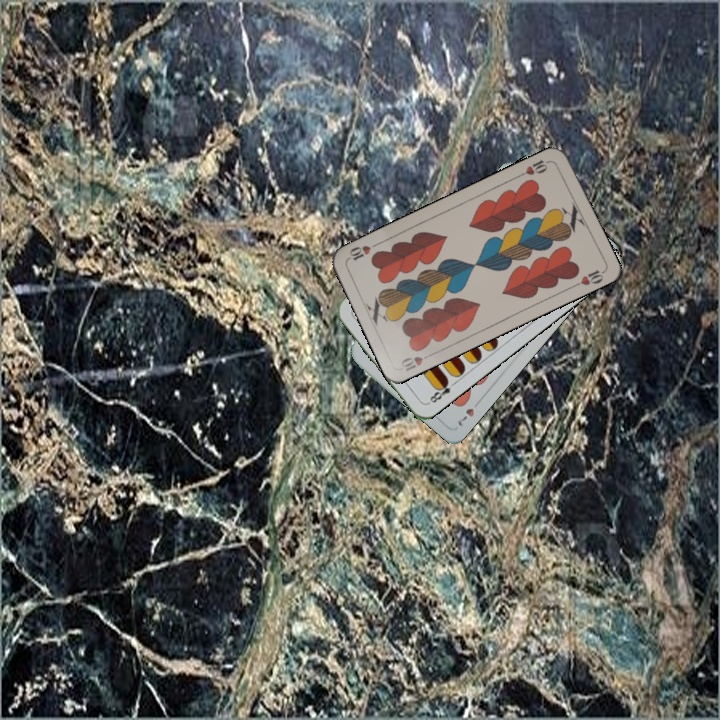E8: (424, 375, 459, 406)
H10: (397, 349, 436, 374), (515, 155, 553, 180)
H7: (454, 396, 482, 429)
